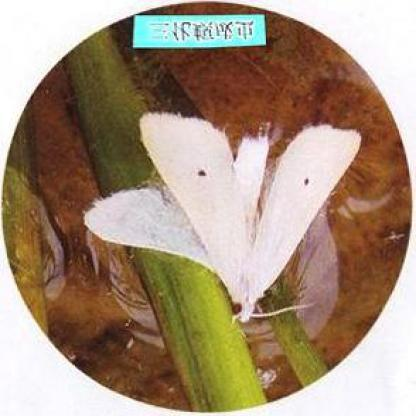stem-borer: (82, 112, 360, 322)
